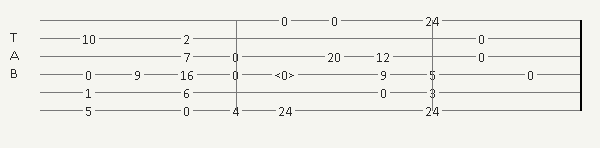0: (85, 68, 96, 81), (183, 104, 194, 117), (232, 50, 243, 63), (232, 68, 243, 81), (281, 14, 292, 27), (331, 14, 342, 27), (380, 86, 391, 99), (478, 50, 489, 63), (478, 32, 489, 45), (527, 68, 538, 81)
1: (85, 86, 96, 99)
10: (82, 32, 100, 45)
12: (376, 50, 394, 63)
16: (180, 68, 198, 81)
2: (183, 32, 194, 45)
20: (327, 50, 345, 63)
24: (278, 104, 296, 117), (425, 104, 443, 117), (425, 14, 443, 27)
3: (429, 86, 440, 99)
4: (232, 104, 243, 117)
5: (85, 104, 96, 117), (429, 68, 440, 81)
6: (183, 86, 194, 99)
7: (183, 50, 194, 63)
9: (134, 68, 145, 81), (380, 68, 391, 81)
harmonic: (274, 68, 299, 81)
